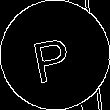P_N: (32, 27, 78, 83)
